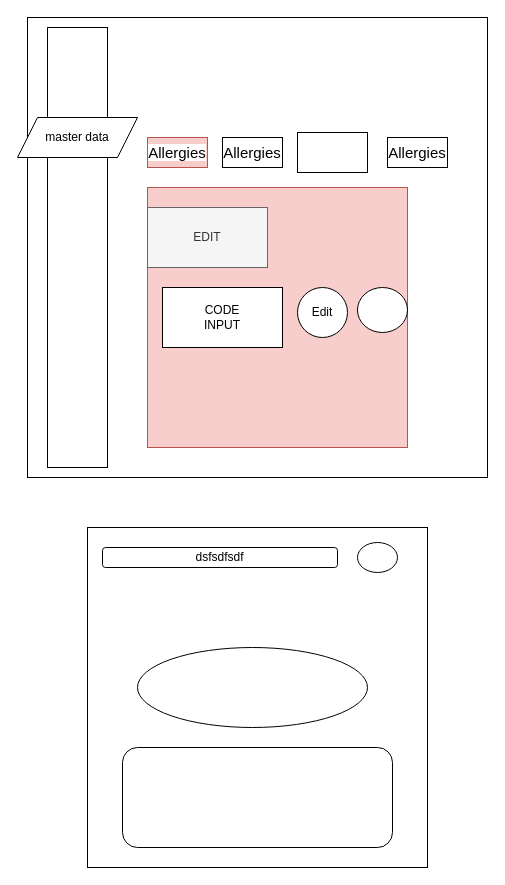
Some shapes in this 505 by 885 pixel diagram are drawn without their labels. The shapes that lost their labels are listed below. From the top down, each one's box as (x1, y1, x2, y2) in pixels, then its label:
(296, 132, 368, 172): Diagnoses
(356, 542, 398, 572): search
(136, 646, 368, 728): ADD NEW
(122, 746, 392, 848): add form
